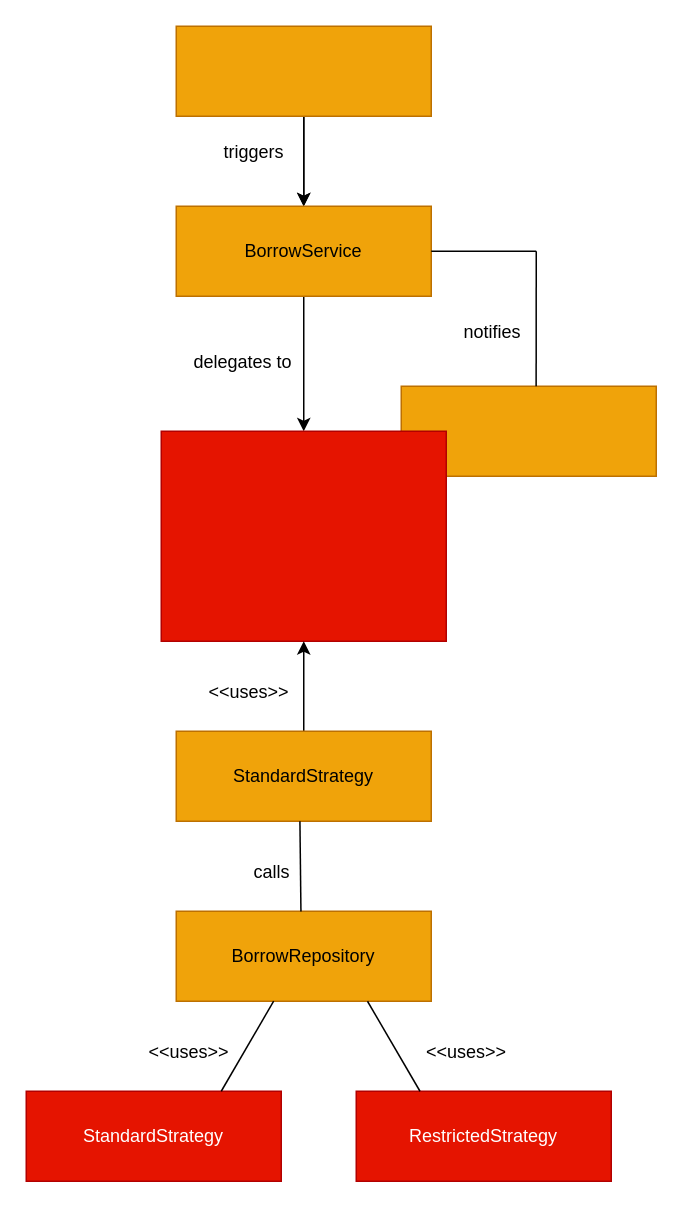
Some shapes in this 683 by 1208 pixel diagram are drawn without their labels. The shapes that lost their labels are listed below. From the top down, each one's centre as x and y in pixels, then its label:
At (x=303, y=70): "BorrowController".
At (x=528, y=430): "NotificationService".
At (x=303, y=535): "<<Interface>> BorrowStrategy + is_eligible(user, item) + get_max_duration()".
